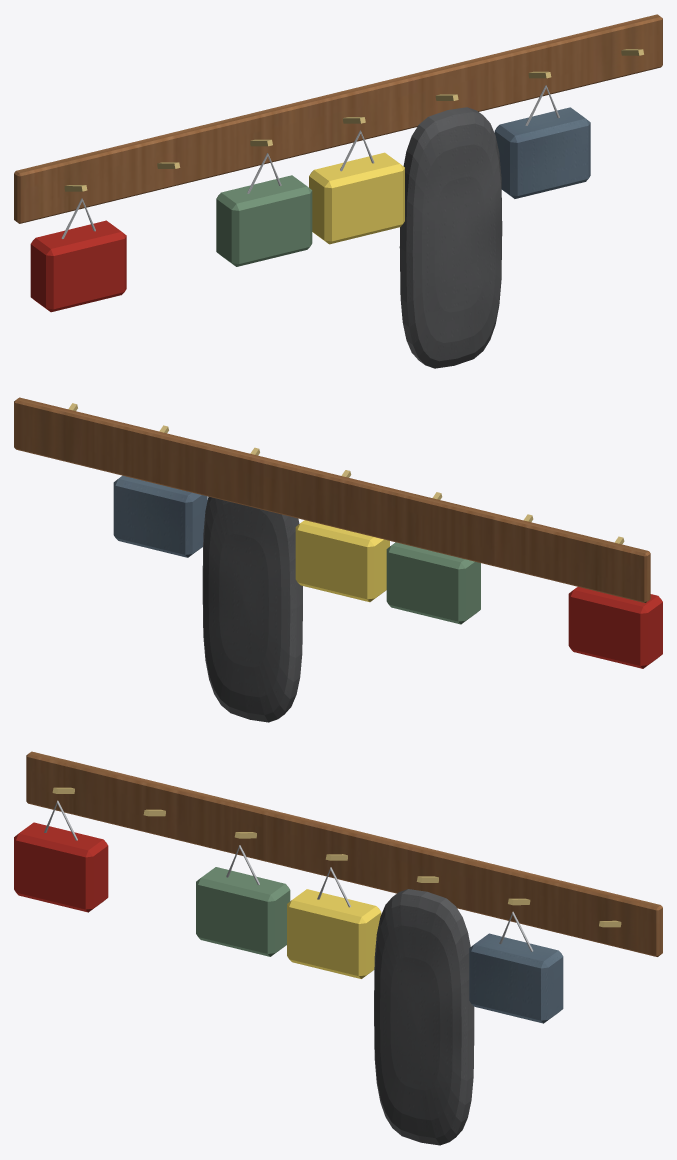
Rendered from cabide_lancheiras.glb.
3 renders of one model, top to bottom at view 1: azimuth 30°, elevation 25°; view 2: azimuth 150°, elevation 25°; view 3: azimuth 330°, elevation 25°, orthographic.
Parts seen in each view (by area): view 1: cabide_lancheiras_madeira, cabide_lancheiras_cobertor_cinza, cabide_lancheiras_tinta_verde, cabide_lancheiras_tinta_vermelha, cabide_lancheiras_tinta_amarela, cabide_lancheiras_tecido_sofa, cabide_lancheiras_ouro_velho, cabide_lancheiras_aco; view 2: cabide_lancheiras_madeira, cabide_lancheiras_cobertor_cinza, cabide_lancheiras_tinta_vermelha, cabide_lancheiras_tinta_verde, cabide_lancheiras_tinta_amarela, cabide_lancheiras_tecido_sofa; view 3: cabide_lancheiras_madeira, cabide_lancheiras_cobertor_cinza, cabide_lancheiras_tecido_sofa, cabide_lancheiras_tinta_vermelha, cabide_lancheiras_tinta_verde, cabide_lancheiras_tinta_amarela, cabide_lancheiras_ouro_velho, cabide_lancheiras_aco.
Boxes of the visible parts, x1,y1,x2,y2 form: cabide_lancheiras_madeira: (14,14,662,223); cabide_lancheiras_cobertor_cinza: (399,107,502,368); cabide_lancheiras_tinta_verde: (216,175,312,266); cabide_lancheiras_tinta_vermelha: (30,220,126,312); cabide_lancheiras_tinta_amarela: (309,152,404,244); cabide_lancheiras_tecido_sofa: (494,107,590,198); cabide_lancheiras_ouro_velho: (64,49,643,191); cabide_lancheiras_aco: (61,85,559,238); cabide_lancheiras_madeira: (14,397,650,602); cabide_lancheiras_cobertor_cinza: (202,496,302,722); cabide_lancheiras_tinta_vermelha: (568,587,662,668); cabide_lancheiras_tinta_verde: (386,542,480,624); cabide_lancheiras_tinta_amarela: (295,520,389,602); cabide_lancheiras_tecido_sofa: (113,475,207,557); cabide_lancheiras_madeira: (26,751,662,956); cabide_lancheiras_cobertor_cinza: (374,889,474,1145); cabide_lancheiras_tecido_sofa: (469,933,563,1023); cabide_lancheiras_tinta_vermelha: (14,822,108,912); cabide_lancheiras_tinta_verde: (196,867,290,956); cabide_lancheiras_tinta_amarela: (287,889,381,978); cabide_lancheiras_ouro_velho: (52,787,621,927); cabide_lancheiras_aco: (44,800,533,951).
Bounding box in the file's own units: 1.6 × 0.6673 × 0.12.
Materials: 8 (3 with a texture image).
